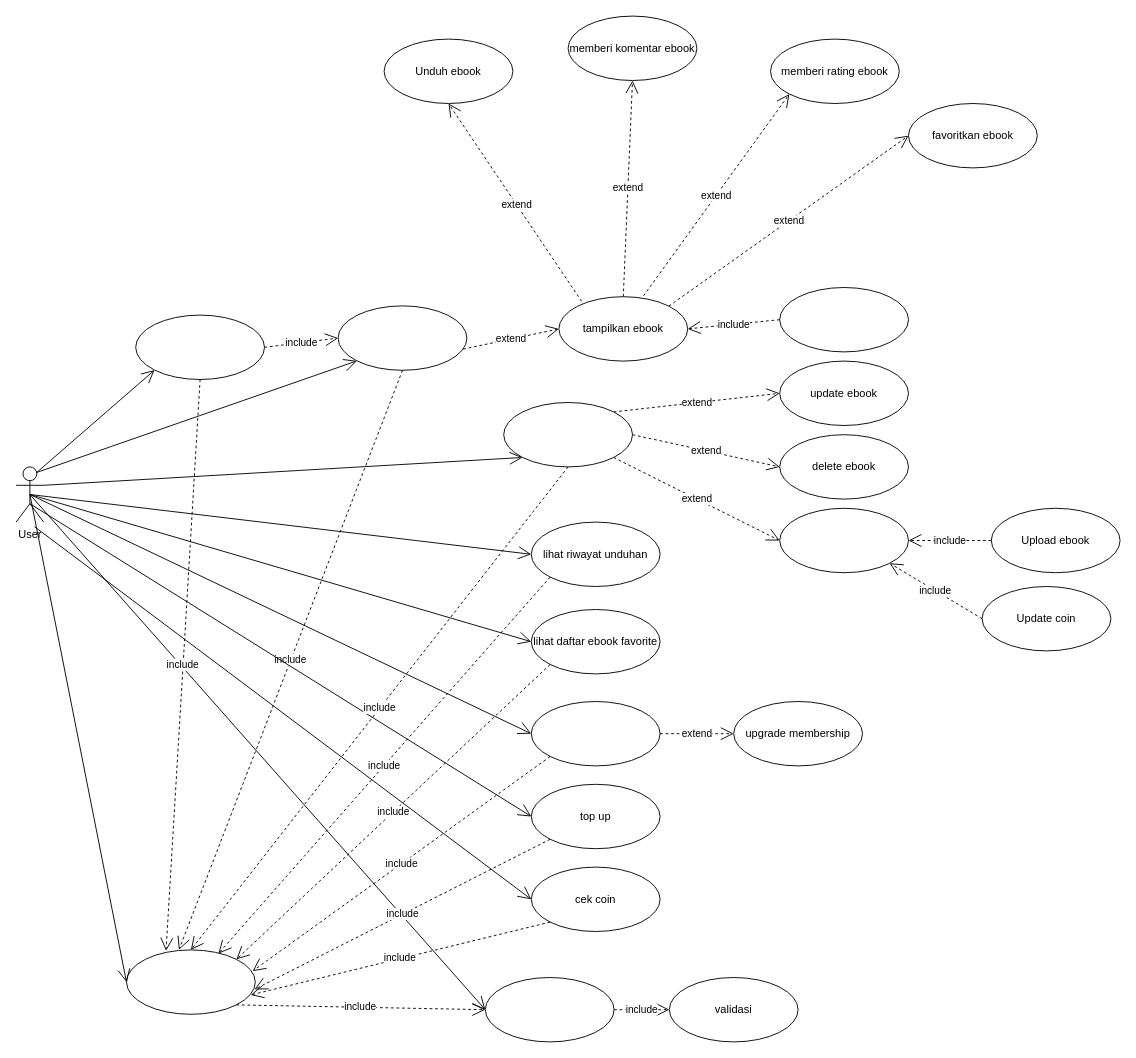
Some shapes in this 1136 by 1058 pixel diagram are drawn without their labels. Here are the shapes that lost their labels. From the top down, the centre of each, then its label:
At (x=402, y=337): "browse ebooks".
At (x=843, y=319): "lihat statistik ebook".
At (x=199, y=347): "search ebook".
At (x=567, y=434): "browse ebooks saya".
At (x=843, y=540): "Tambah ebook".
At (x=595, y=733): "cek profile".
At (x=190, y=981): "login".
At (x=549, y=1009): "register".
